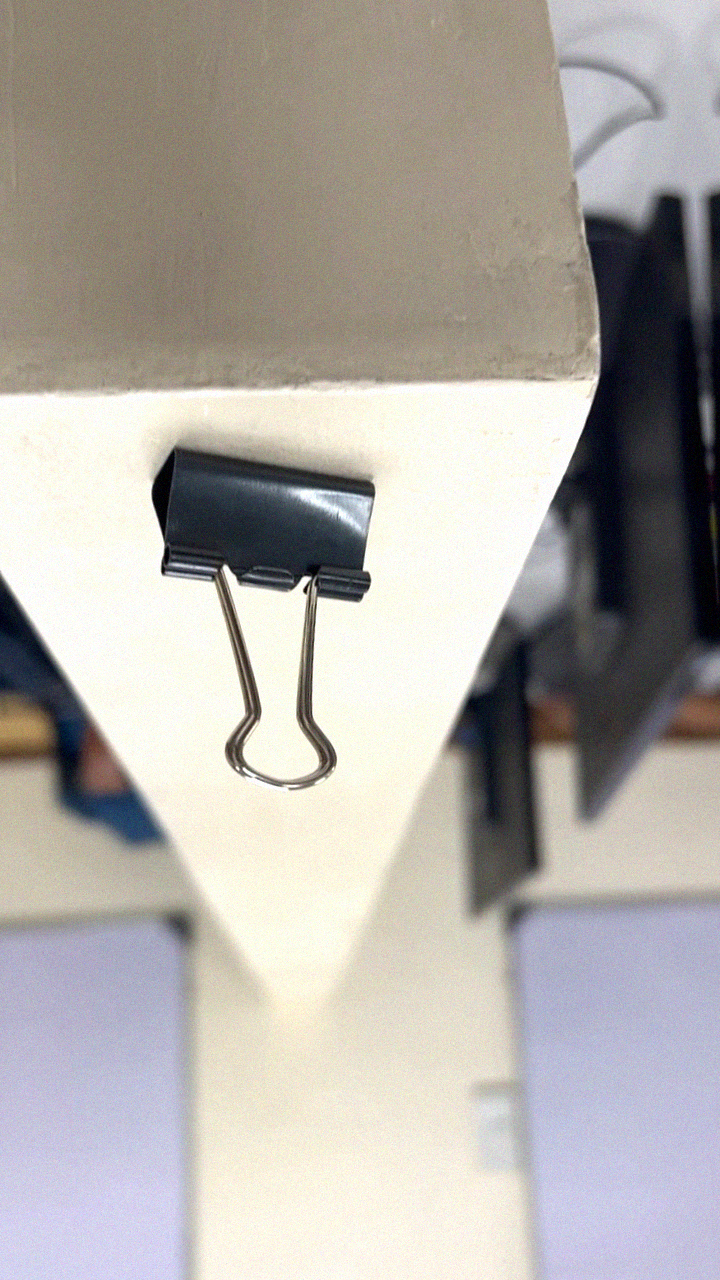kep_giay: (142, 439, 395, 802)
